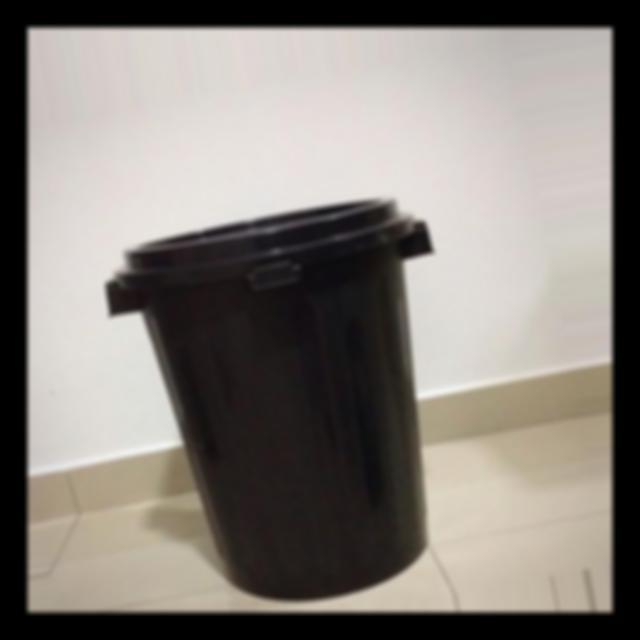Bote de Basura: (111, 209, 453, 608)
